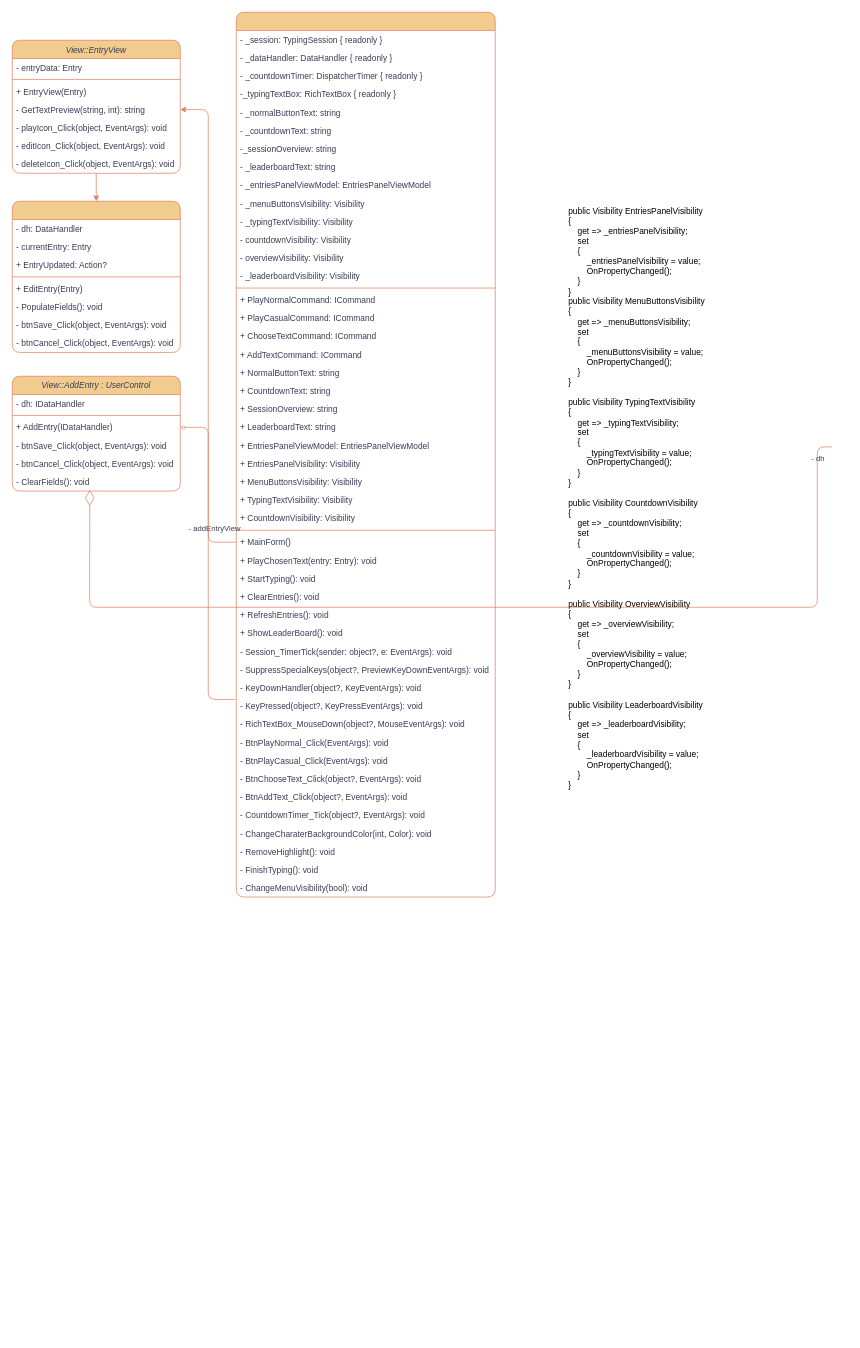
Image size: 860x1348. Some labels were removed from this diagram. The shapes that lost their labels are listed below. From the top down, each one's box as (x1, y1, x2, y2) in pixels, then its label:
(12, 201, 180, 352): View::EditEntry
(236, 12, 495, 897): View::MainForm : Form
